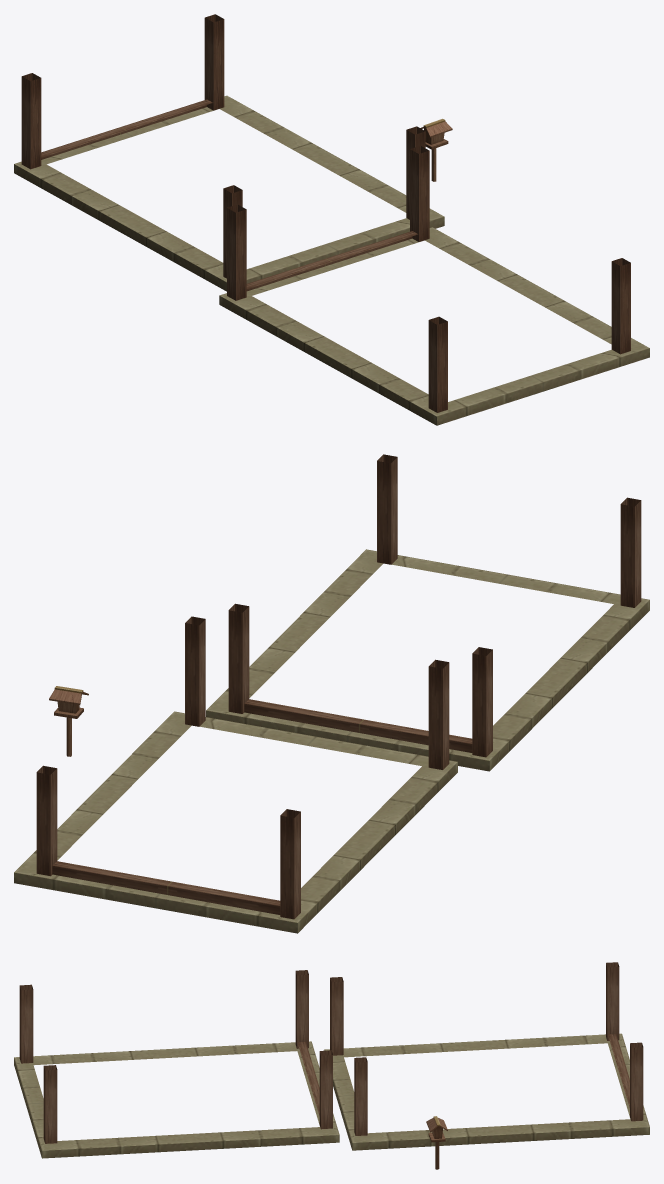
File: Area_09_44.fbx
3 renders of one model, top to bottom at view 1: azimuth 30°, elevation 25°; view 2: azimuth 150°, elevation 25°; view 3: azimuth 270°, elevation 25°, orthographic. The views are drawn at different scales.
Visible parts, largest first — view 1: Area_09_44; view 2: Area_09_44; view 3: Area_09_44.
Boxes of the visible parts, x1=… form: Area_09_44: x1=14, y1=14, x2=649, y2=425; Area_09_44: x1=14, y1=454, x2=649, y2=933; Area_09_44: x1=14, y1=962, x2=649, y2=1169.
Size of the model in its own units: 1293 by 379 by 2638.
